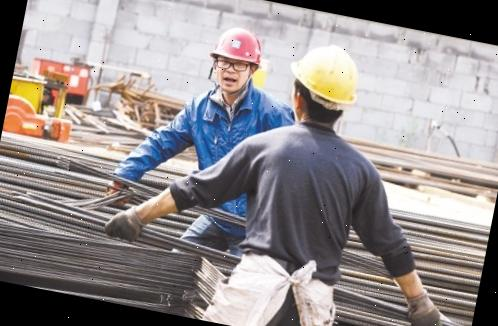helmet: (284, 38, 370, 116), (207, 22, 269, 67)
no_wear: (235, 129, 369, 285), (182, 88, 288, 192)
